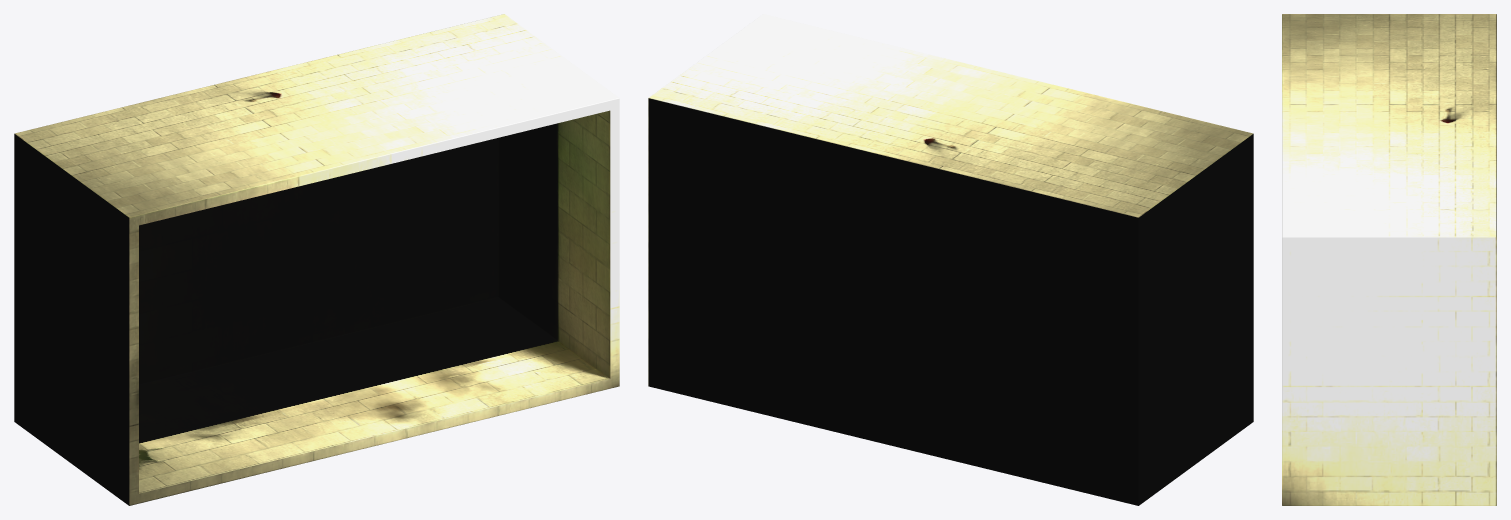
3 views of the same model, side by side, from view 1: azimuth 30°, elevation 25°; view 2: azimuth 150°, elevation 25°; view 3: azimuth 270°, elevation 25° (orthographic). The views are drawn at different scales.
Parts seen in each view (by area): view 1: Cube; view 2: Cube; view 3: Cube.
Boxes of the visible parts, x1=… form: Cube: x1=14, y1=14, x2=619, y2=505; Cube: x1=648, y1=14, x2=1253, y2=505; Cube: x1=1282, y1=14, x2=1496, y2=505.
Size of the model in its own units: 5.31 by 2.98 by 2.16.
1 material, 1 textured.
